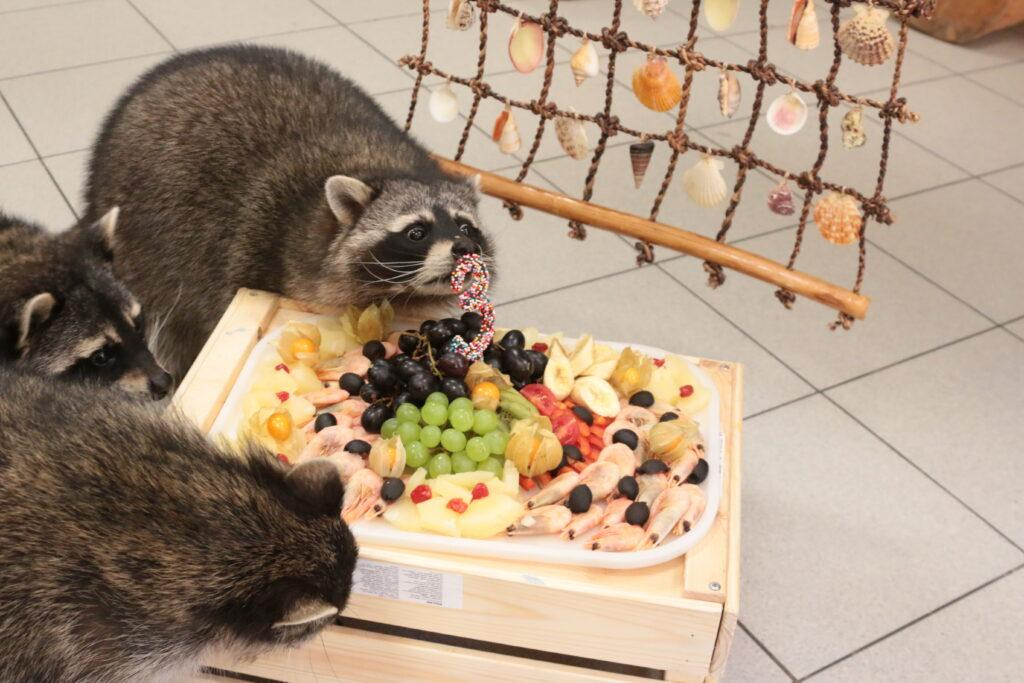raccoon: (95, 39, 499, 336), (2, 366, 359, 683), (0, 201, 185, 410)
